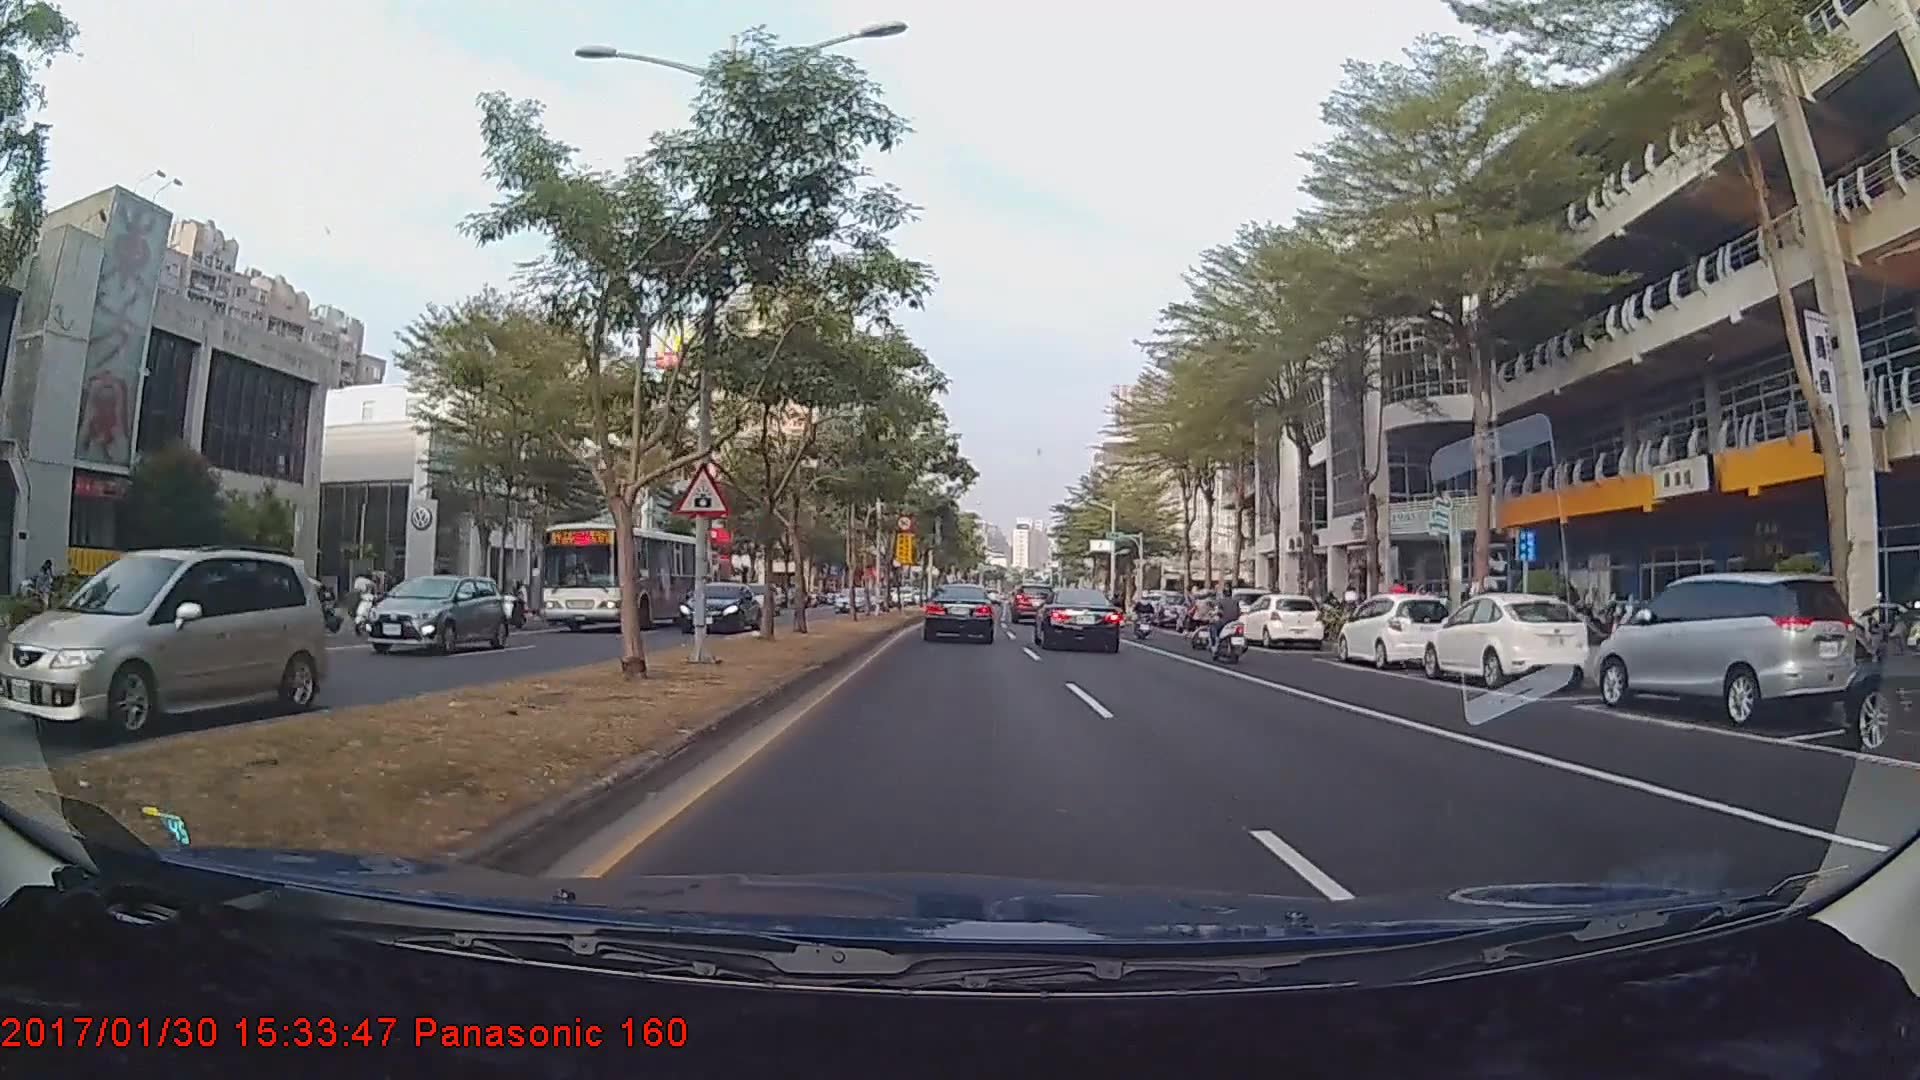rider: (1204, 582, 1255, 666), (1187, 590, 1227, 649), (1133, 586, 1157, 642)
vehicle: (0, 546, 328, 744), (1594, 569, 1857, 724), (538, 522, 718, 634), (1420, 591, 1591, 687), (1840, 598, 1920, 751), (363, 574, 510, 655), (1337, 591, 1455, 667), (1037, 587, 1122, 653), (1238, 591, 1326, 647), (921, 581, 997, 644), (676, 578, 761, 633), (1190, 582, 1272, 634), (733, 581, 781, 618), (1009, 584, 1053, 622), (830, 582, 869, 609)
